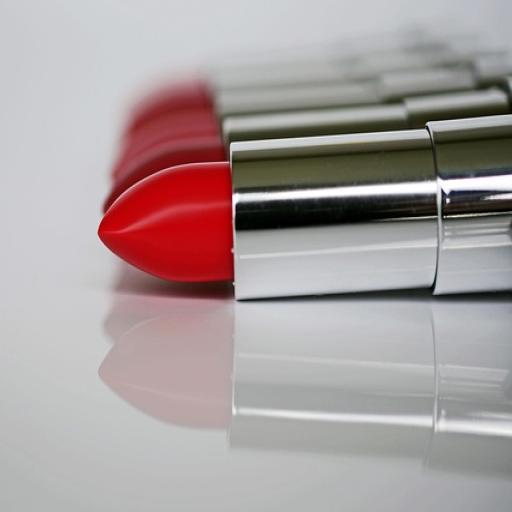lipstick: (99, 116, 511, 298), (100, 293, 511, 473), (104, 82, 510, 211), (113, 52, 511, 179)
